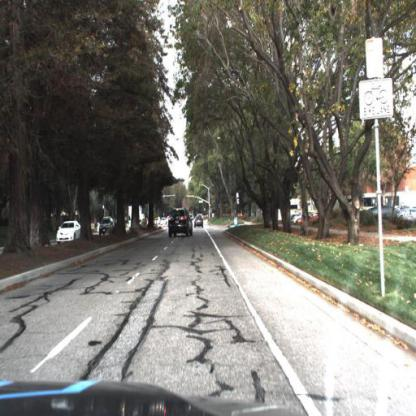car: (365, 200, 403, 229), (169, 206, 195, 241), (55, 218, 84, 245), (98, 217, 116, 243), (194, 215, 206, 232)
